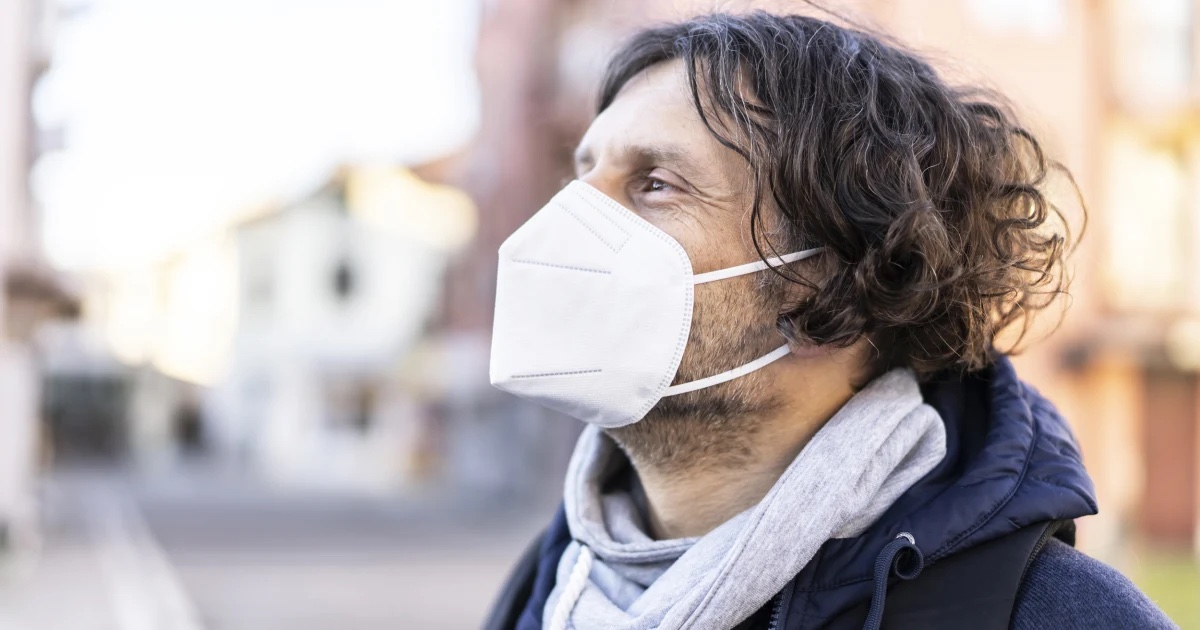Head: (490, 10, 878, 427)
